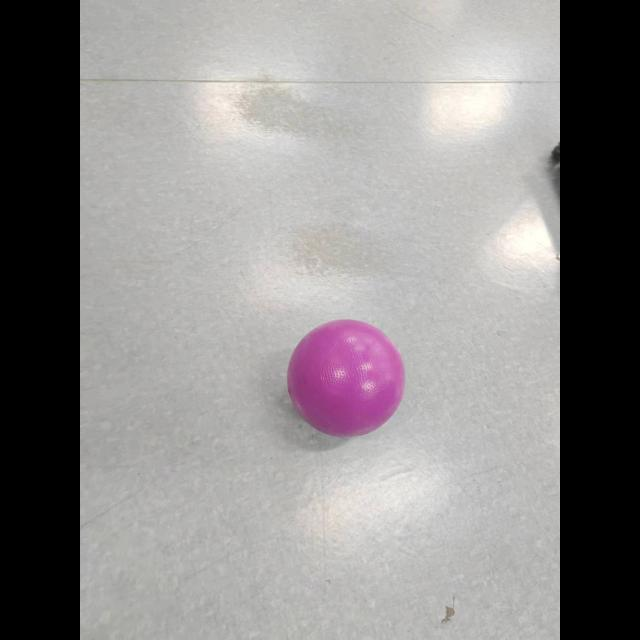P: (284, 317, 408, 437)
